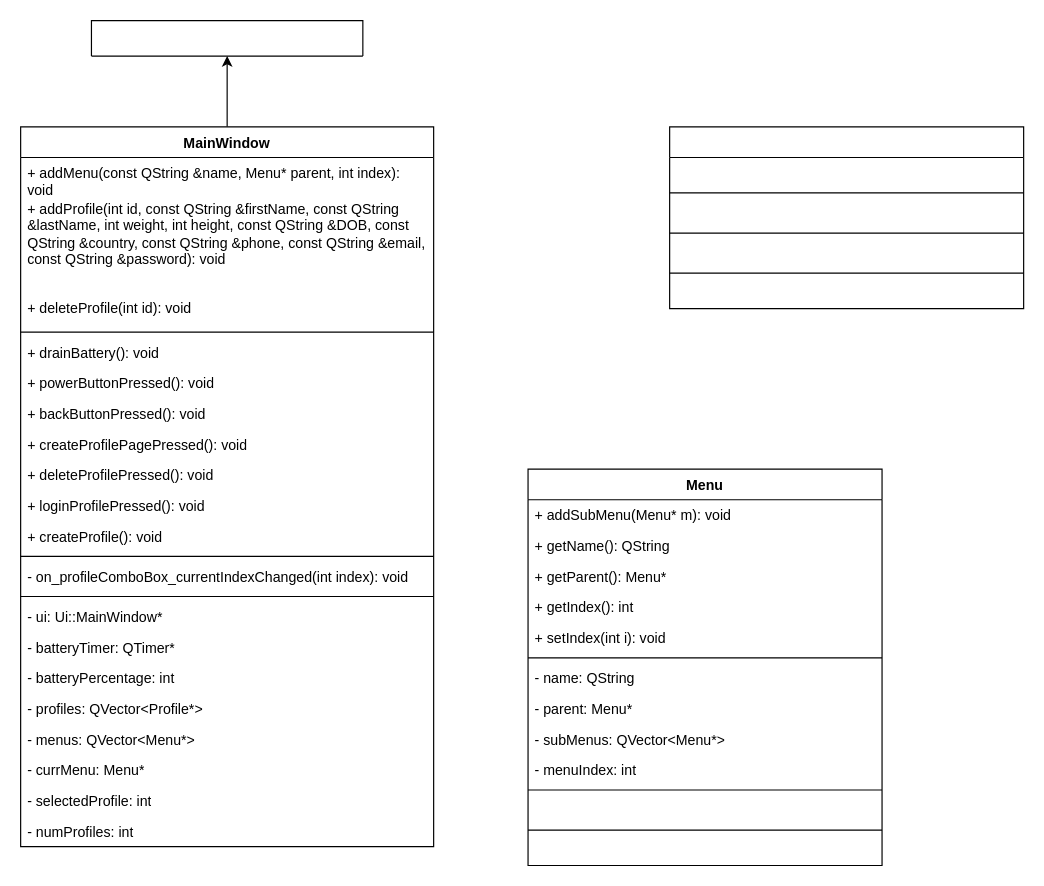
This 1044x886 diagram has some shape labels left out. The centre of each missing label's shape, as x and y in pixels:
"Name" belongs at (846,217).
"QMainWindow" belongs at (226,37).
